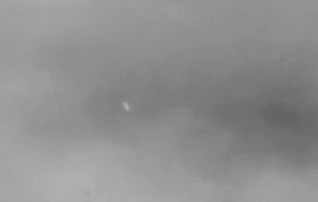Target: (125, 103, 129, 108)
